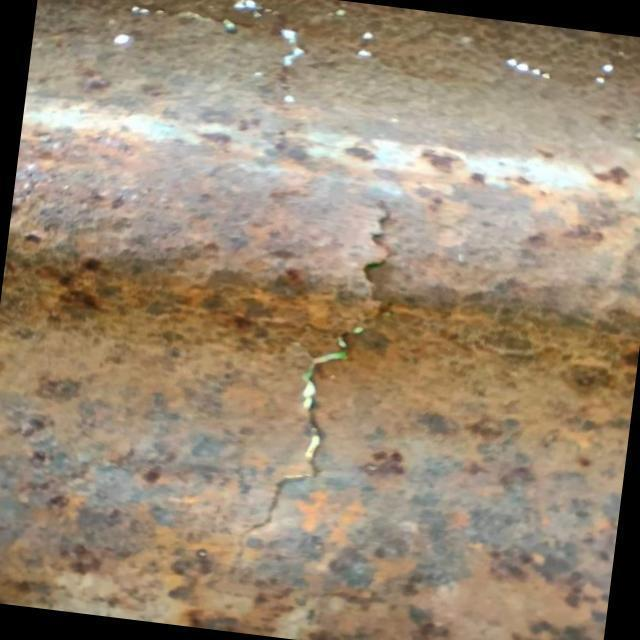defect: (207, 189, 401, 590)
